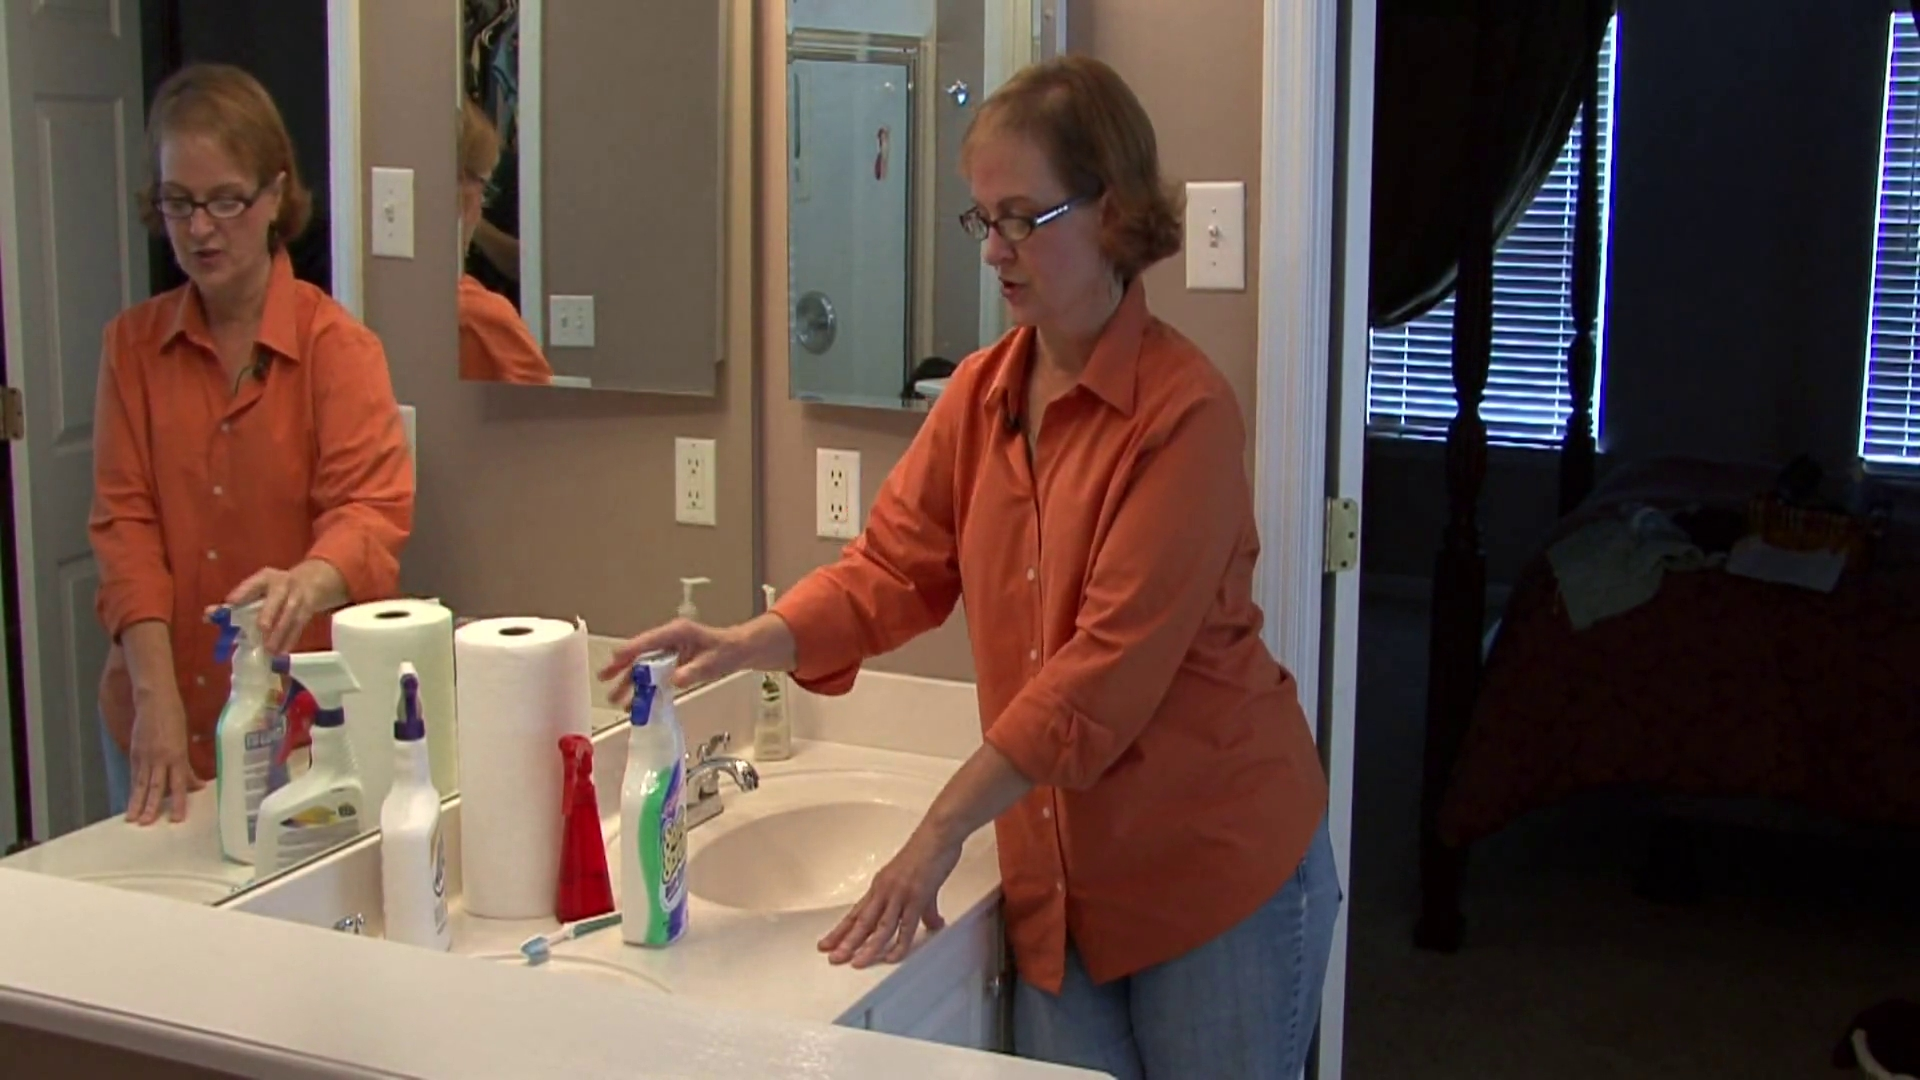person: (597, 55, 1341, 1079), (88, 62, 413, 826)
